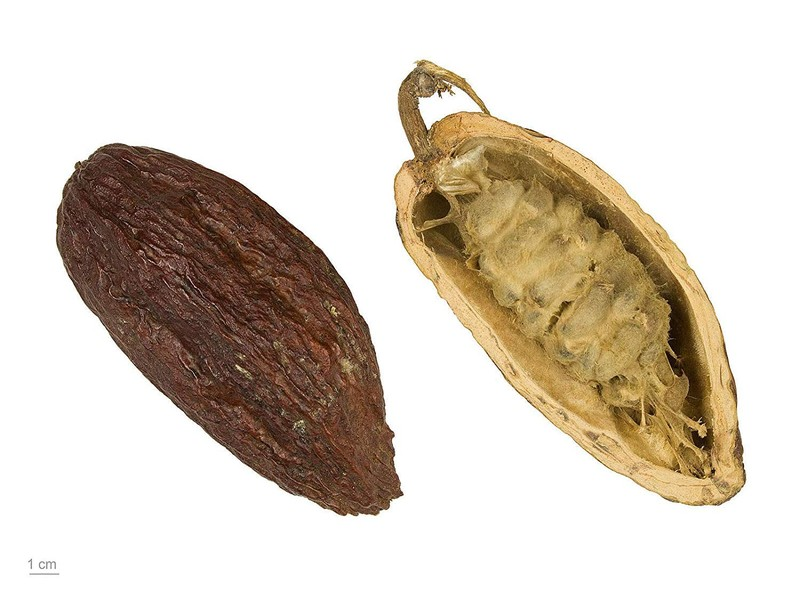Cacaopod: (57, 141, 404, 522)
